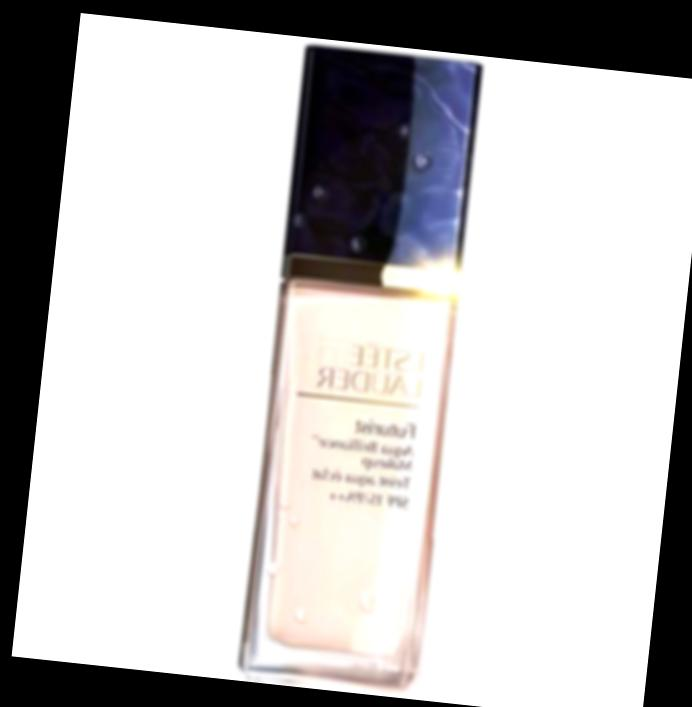cosmetic: (233, 42, 484, 696)
